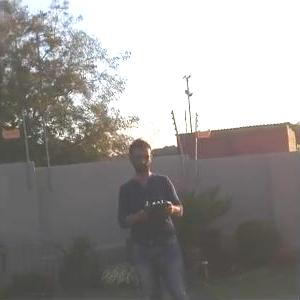follow: (114, 132, 199, 299)
